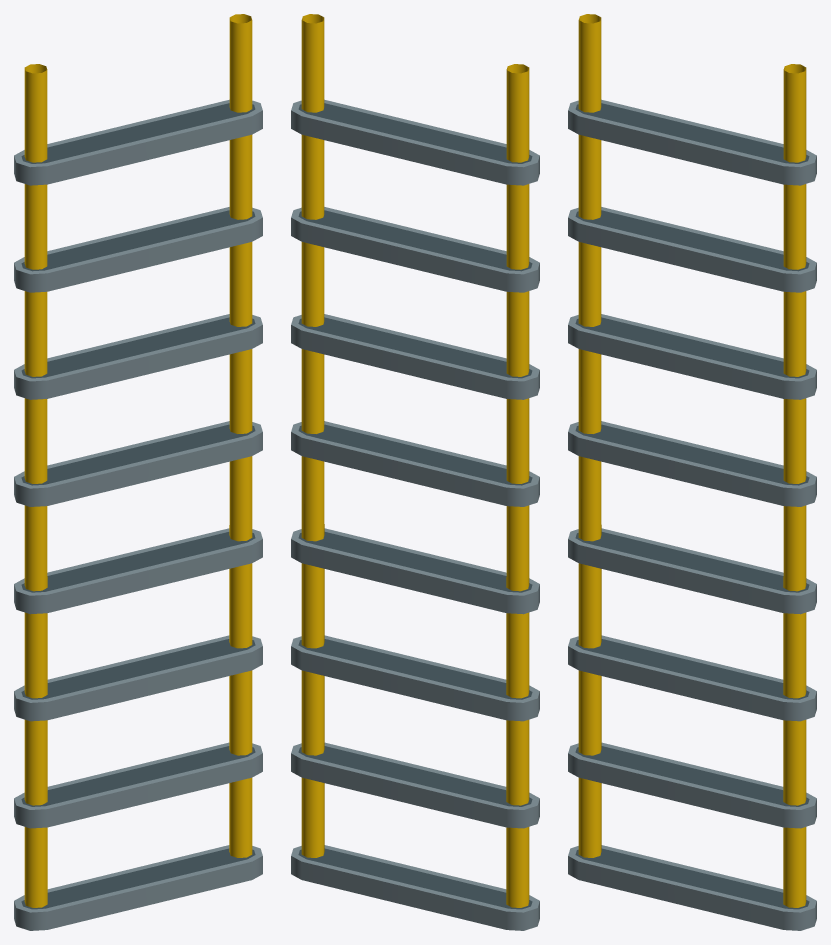
File: Ladder_003.fbx
The picture shows the model from 3 angles, left to right: view 1: azimuth 30°, elevation 25°; view 2: azimuth 150°, elevation 25°; view 3: azimuth 330°, elevation 25°; orthographic projection.
Parts seen in each view (by area): view 1: Ladder_003; view 2: Ladder_003; view 3: Ladder_003.
Part boxes in pixels (bbox=[...]): Ladder_003: bbox=[14, 14, 262, 930]; Ladder_003: bbox=[291, 14, 539, 930]; Ladder_003: bbox=[568, 14, 816, 930].
Bounding box in the file's own units: 119 × 19.29 × 398.
